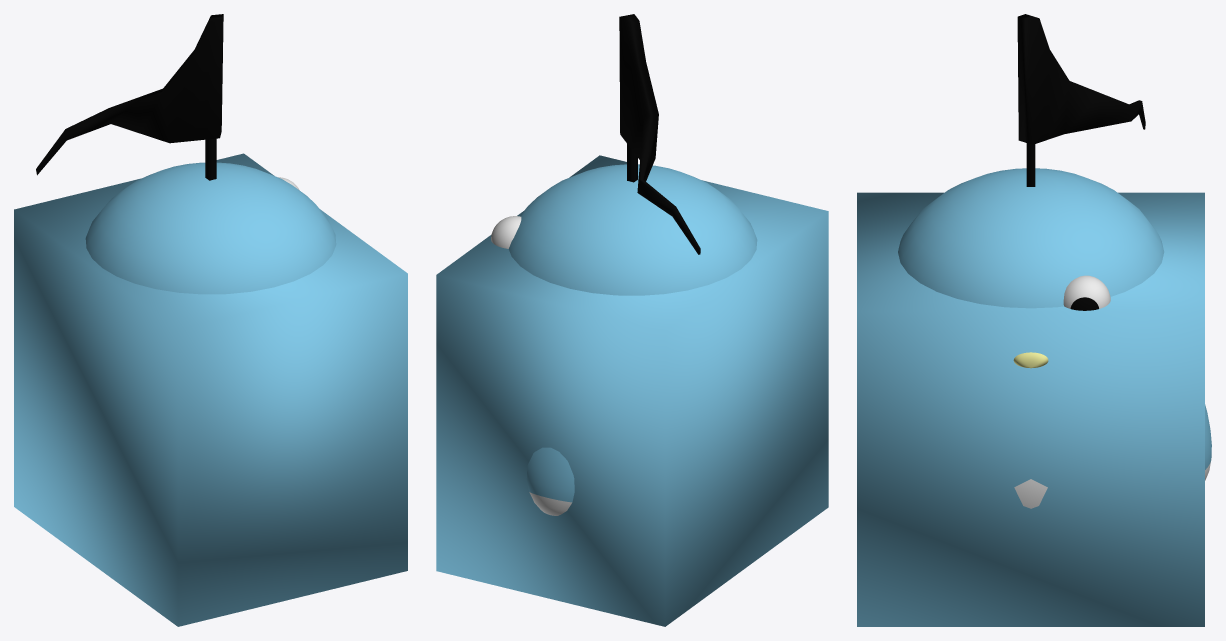
Rendered from penguin.glb.
3 renders of one model, left to right at view 1: azimuth 30°, elevation 25°; view 2: azimuth 150°, elevation 25°; view 3: azimuth 270°, elevation 25°, orthographic. The views are drawn at different scales.
Parts seen in each view (by area): view 1: body, face, note2; view 2: body, face, note2, arm_L, eye_L; view 3: body, face, note2, eye_L, center.
Boxes of the visible parts, box(x1,y1,x2,y2) form: body: box(14, 153, 407, 626); face: box(85, 162, 336, 294); note2: box(36, 14, 223, 175); body: box(436, 155, 828, 626); face: box(509, 164, 757, 295); note2: box(619, 14, 700, 254); arm_L: box(526, 447, 574, 515); eye_L: box(491, 216, 521, 248); body: box(857, 192, 1204, 626); face: box(898, 168, 1164, 308); note2: box(1017, 14, 1145, 144); eye_L: box(1063, 275, 1110, 310); center: box(1014, 479, 1047, 508).
Bounding box in the file's own units: 3.53 × 7.02 × 4.08.
